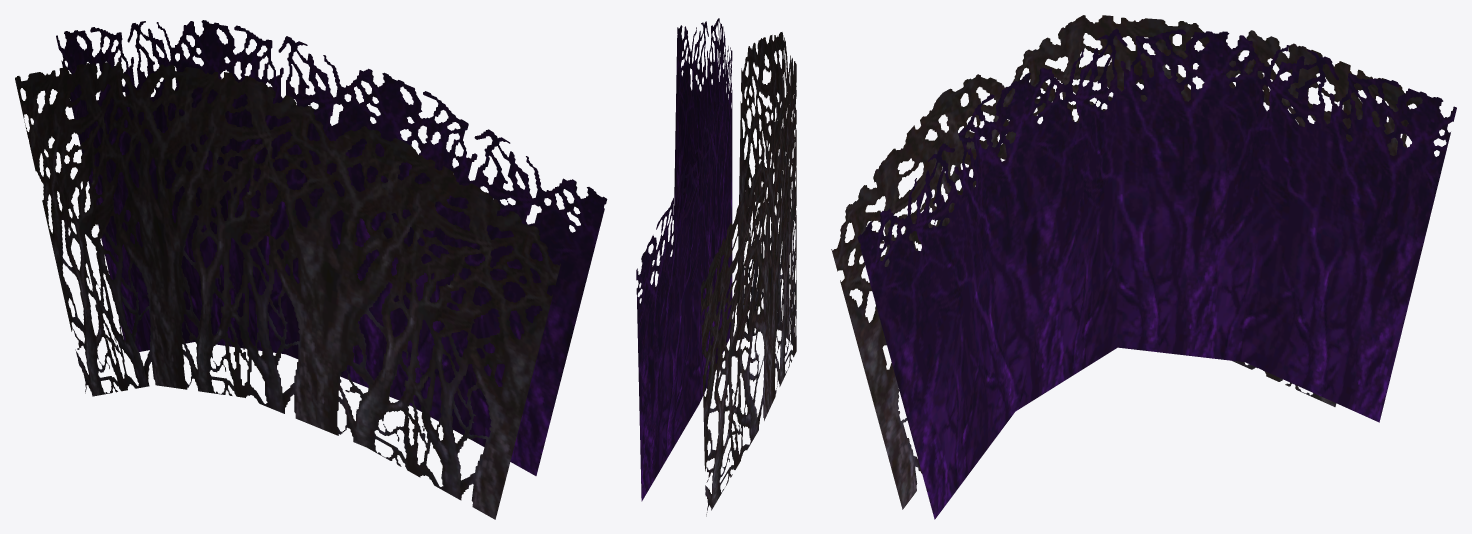
File: EKH_ENTRANCE_PS_EN_TREE_LINE09398374.fbx
The picture shows the model from 3 angles, left to right: view 1: azimuth 30°, elevation 25°; view 2: azimuth 150°, elevation 25°; view 3: azimuth 270°, elevation 25°; orthographic projection. The views are drawn at different scales.
Parts seen in each view (by area): view 1: EKH_ENTRANCE_PS_EN_TREE_LINE09398374; view 2: EKH_ENTRANCE_PS_EN_TREE_LINE09398374; view 3: EKH_ENTRANCE_PS_EN_TREE_LINE09398374.
Boxes of the visible parts, x1,y1,x2,y2 form: EKH_ENTRANCE_PS_EN_TREE_LINE09398374: [15, 20, 607, 519]; EKH_ENTRANCE_PS_EN_TREE_LINE09398374: [636, 18, 796, 516]; EKH_ENTRANCE_PS_EN_TREE_LINE09398374: [831, 15, 1456, 519].
Bounding box in the file's own units: 145310 × 195015 × 256264.
2 materials, 2 textured.
